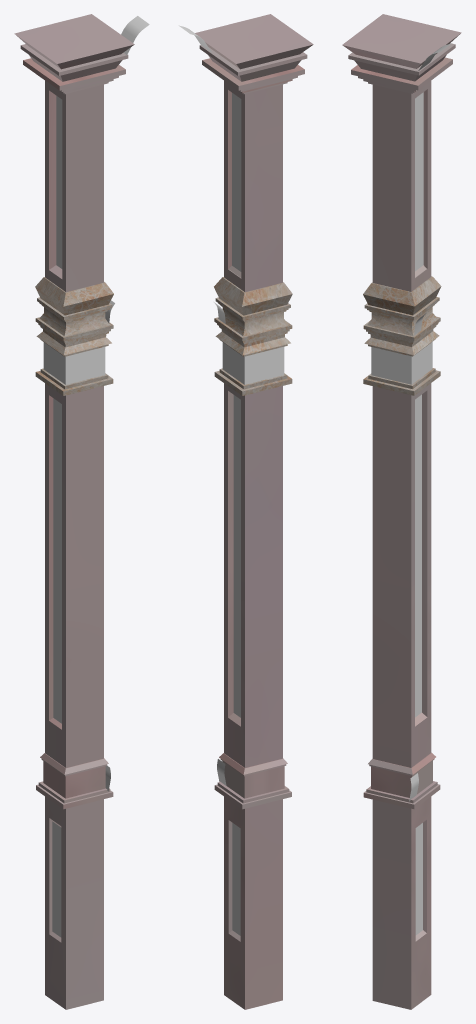
File: Kolumna.fbx
The picture shows the model from 3 angles, left to right: view 1: azimuth 30°, elevation 25°; view 2: azimuth 210°, elevation 25°; view 3: azimuth 330°, elevation 25°; orthographic projection.
Parts seen in each view (by area): view 1: Curve.002, Plane.003; view 2: Curve.002; view 3: Curve.002.
Boxes of the visible parts, x1=… form: Curve.002: x1=14, y1=14, x2=134, y2=1009; Plane.003: x1=121, y1=16, x2=149, y2=54; Curve.002: x1=195, y1=14, x2=313, y2=1009; Curve.002: x1=342, y1=14, x2=461, y2=1009.
Size of the model in its own units: 1.69 by 16.29 by 1.3.
